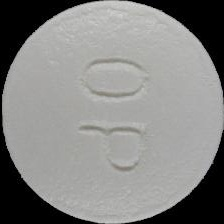55700-334: (0, 0, 224, 224)
